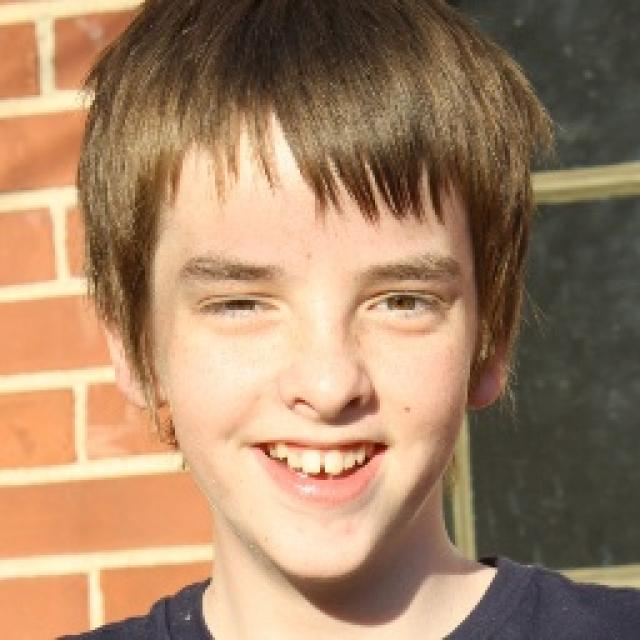earlobe: (468, 377, 508, 413), (115, 386, 170, 412)
eye: (368, 288, 441, 320), (201, 290, 275, 321)
nose: (283, 398, 369, 435)
wholeear: (94, 249, 168, 411), (470, 247, 522, 416)
